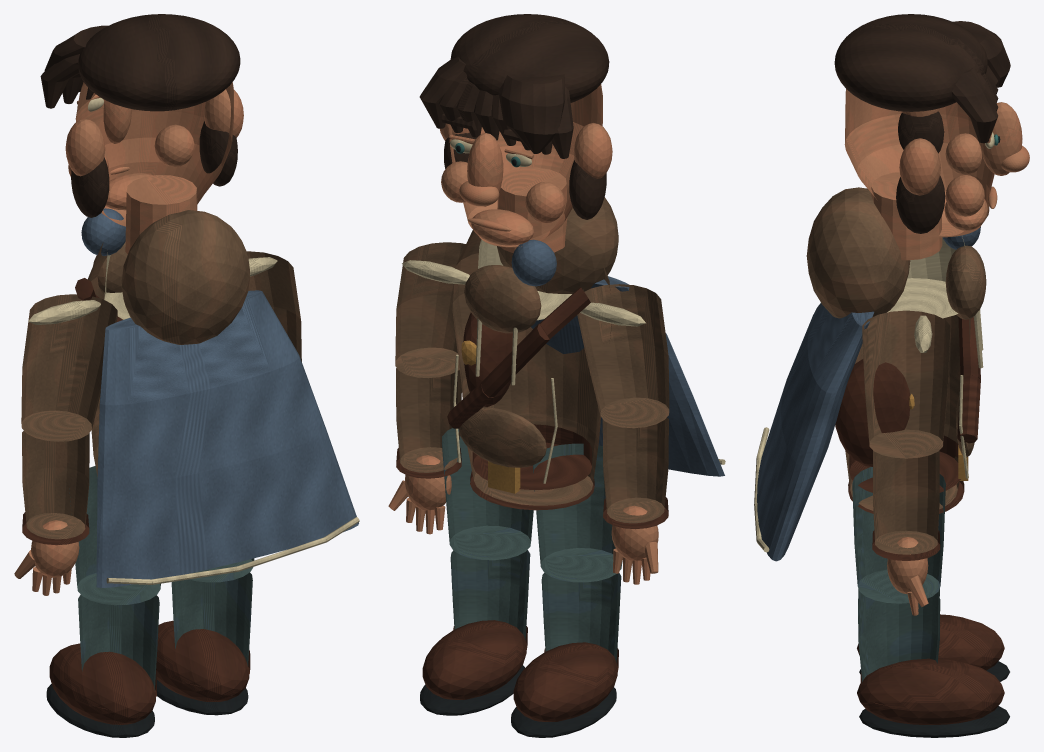
File: windfall-companion-c.glb
3 views of the same model, side by side, from view 1: azimuth 30°, elevation 25°; view 2: azimuth 150°, elevation 25°; view 3: azimuth 270°, elevation 25° (orthographic). The views are drawn at different scales.
Visible parts, largest first — view 1: cape-surface-scarf, head-surface-hair, body-surface-coat, head-surface-skin, arm-L-surface-coat, forearm-L-surface-coat, foot-L-surface-leather, foot-R-surface-leather, shin-L-surface-pants, shin-R-surface-pants, neck-surface-skin, leg-L-surface-pants (+9 smaller); view 2: body-surface-coat, head-surface-hair, head-surface-skin, arm-L-surface-coat, body-surface-leather, arm-R-surface-coat, leg-L-surface-pants, foot-L-surface-leather, foot-R-surface-leather, leg-R-surface-pants, forearm-L-surface-coat, shin-L-surface-pants (+14 smaller); view 3: head-surface-hair, body-surface-coat, head-surface-skin, cape-surface-scarf, arm-R-surface-coat, body-surface-leather, foot-R-surface-leather, forearm-R-surface-coat, shin-R-surface-pants, leg-R-surface-pants, body-surface-linen, foot-L-surface-leather (+6 smaller).
Boxes of the visible parts, left/top/right/bottom form: cape-surface-scarf: left=96, top=290, right=358, bottom=587; head-surface-hair: left=40, top=14, right=240, bottom=217; body-surface-coat: left=80, top=210, right=249, bottom=476; head-surface-skin: left=65, top=82, right=243, bottom=226; arm-L-surface-coat: left=21, top=294, right=117, bottom=441; forearm-L-surface-coat: left=22, top=431, right=89, bottom=539; foot-L-surface-leather: left=49, top=643, right=155, bottom=724; foot-R-surface-leather: left=156, top=620, right=249, bottom=701; shin-L-surface-pants: left=78, top=594, right=159, bottom=690; shin-R-surface-pants: left=171, top=572, right=252, bottom=666; neck-surface-skin: left=125, top=175, right=197, bottom=254; leg-L-surface-pants: left=69, top=466, right=160, bottom=605; body-surface-coat: left=452, top=197, right=618, bottom=505; head-surface-hair: left=419, top=14, right=609, bottom=219; head-surface-skin: left=440, top=84, right=612, bottom=247; arm-L-surface-coat: left=577, top=284, right=669, bottom=428; body-surface-leather: left=447, top=287, right=594, bottom=510; arm-R-surface-coat: left=395, top=242, right=465, bottom=378; leg-L-surface-pants: left=533, top=443, right=622, bottom=582; foot-L-surface-leather: left=513, top=642, right=617, bottom=721; foot-R-surface-leather: left=422, top=620, right=526, bottom=699; leg-R-surface-pants: left=441, top=428, right=533, bottom=560; forearm-L-surface-coat: left=602, top=417, right=668, bottom=523; shin-L-surface-pants: left=541, top=573, right=621, bottom=662; head-surface-hair: left=834, top=14, right=1010, bottom=233; body-surface-coat: left=806, top=187, right=986, bottom=510; head-surface-skin: left=844, top=89, right=1029, bottom=237; cape-surface-scarf: left=757, top=303, right=874, bottom=561; arm-R-surface-coat: left=862, top=310, right=950, bottom=458; body-surface-leather: left=835, top=317, right=980, bottom=513; foot-R-surface-leather: left=857, top=658, right=1004, bottom=724; forearm-R-surface-coat: left=873, top=450, right=939, bottom=554; shin-R-surface-pants: left=858, top=593, right=940, bottom=681; leg-R-surface-pants: left=852, top=467, right=945, bottom=603; body-surface-linen: left=887, top=236, right=983, bottom=478; foot-L-surface-leather: left=857, top=614, right=1004, bottom=670.
Size of the model in its own units: 0.8455 by 2.01 by 0.7443.
10 materials, 10 textured.
